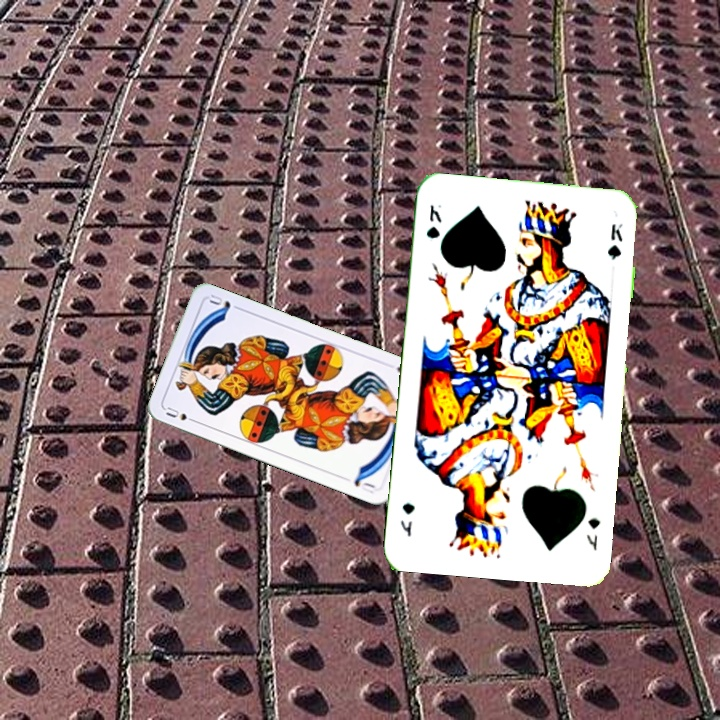GK: (422, 201, 444, 241), (582, 514, 603, 553)
SU: (162, 403, 200, 426)
